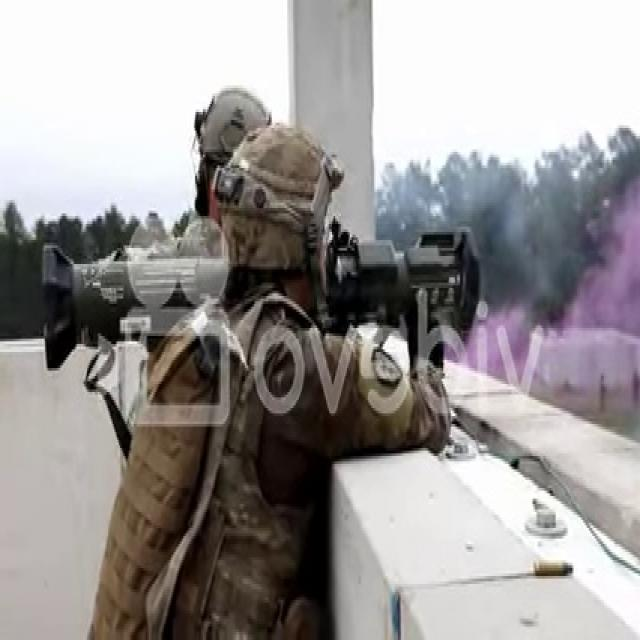rocket: (43, 218, 480, 368)
